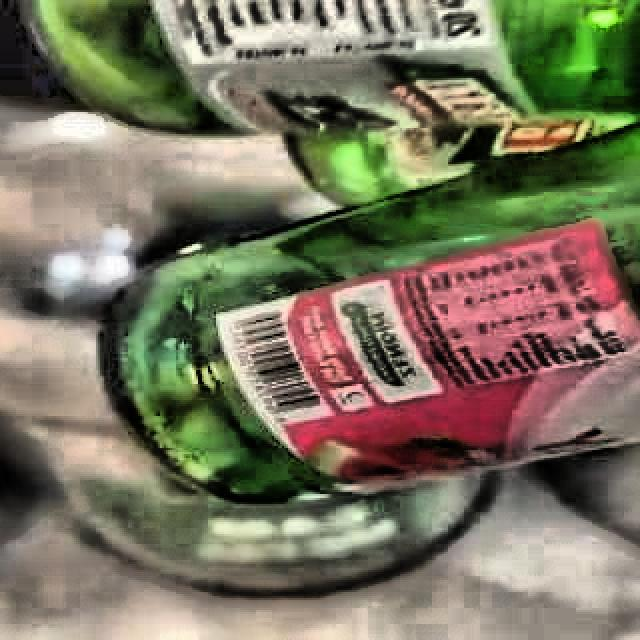glass: (25, 0, 640, 502)
